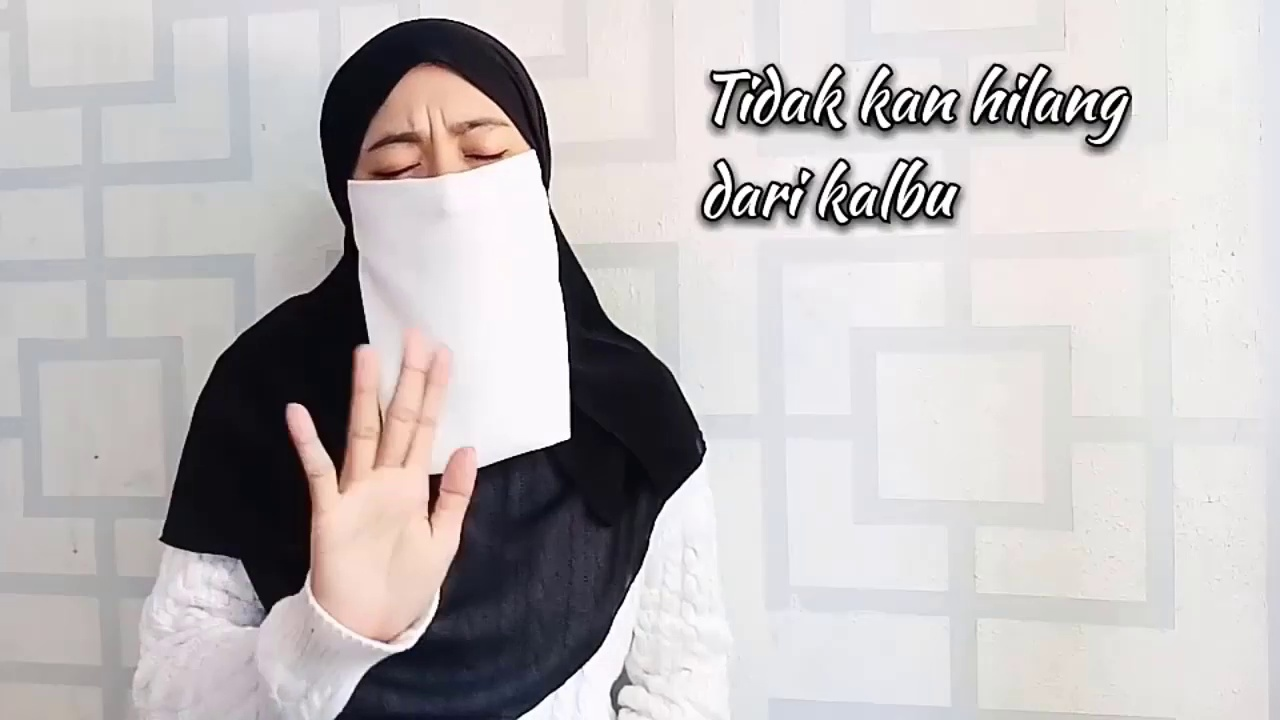TIDAK: (260, 9, 578, 660)
